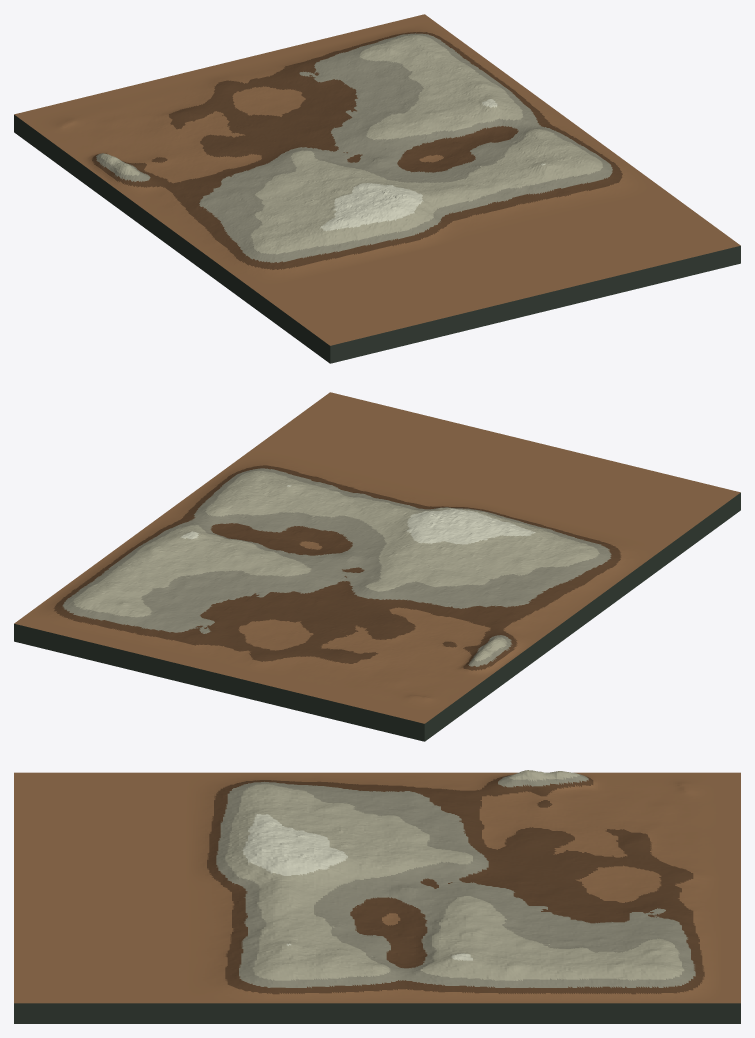
Rendered from adtg_d95.dae.
3 renders of one model, top to bottom at view 1: azimuth 30°, elevation 25°; view 2: azimuth 150°, elevation 25°; view 3: azimuth 270°, elevation 25°, orthographic. The views are drawn at different scales.
Visible parts, largest first — view 1: terrain_node; view 2: terrain_node; view 3: terrain_node.
Part boxes in pixels (<box>): terrain_node: <box>14,14,740,363</box>; terrain_node: <box>14,392,740,741</box>; terrain_node: <box>14,770,740,1023</box>.
Bounding box in the file's own units: 6 × 8 × 0.5022.
